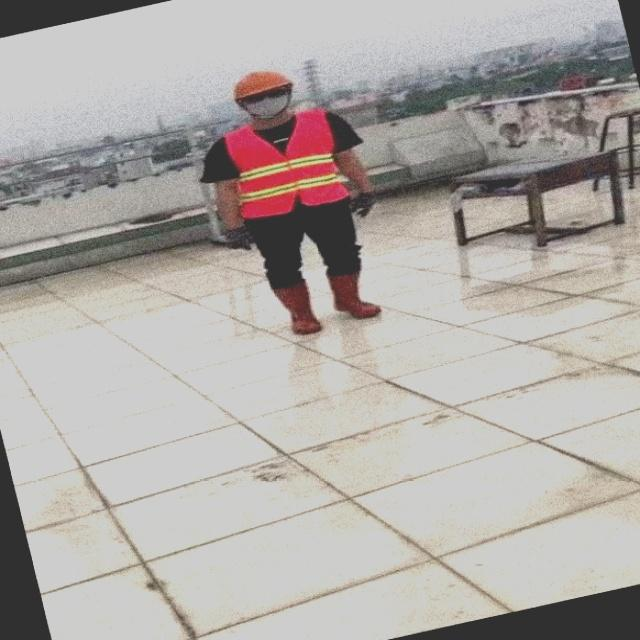helmet: (228, 68, 290, 96)
safety_vest: (218, 106, 360, 222)
